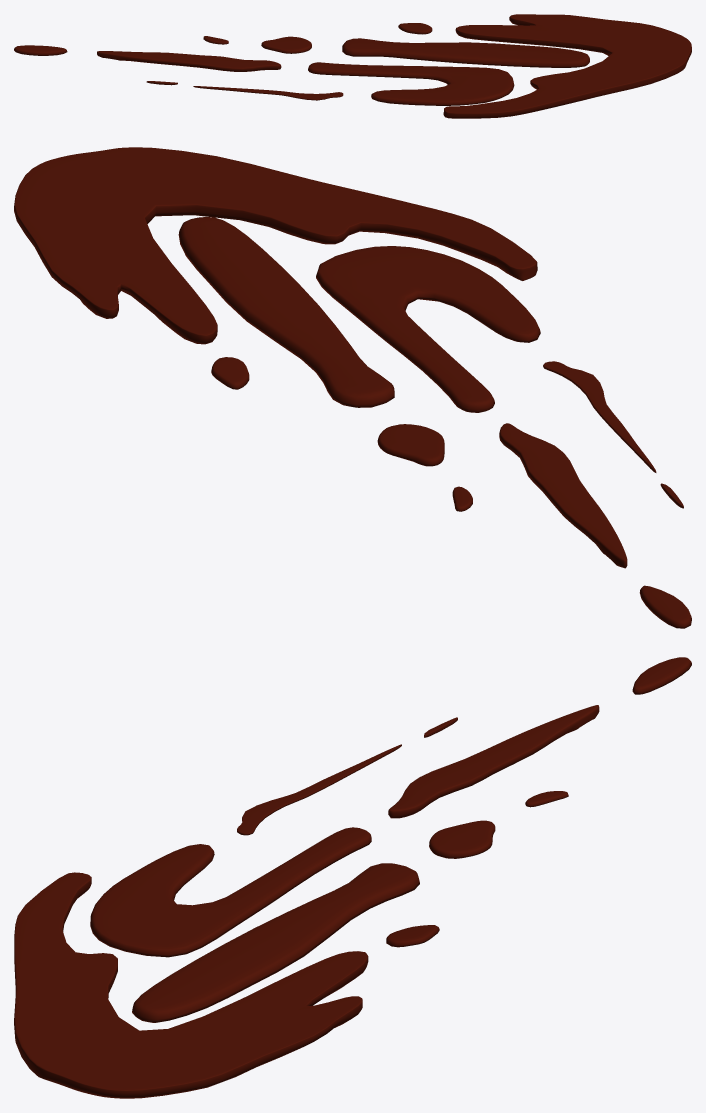
Rendered from soySauce2.fbx.
3 renders of one model, top to bottom at view 1: azimuth 30°, elevation 25°; view 2: azimuth 150°, elevation 25°; view 3: azimuth 270°, elevation 25°, orthographic. The views are drawn at different scales.
Visible parts, largest first — view 1: pPlane14; view 2: pPlane14; view 3: pPlane14.
Part boxes in pixels (<box>): pPlane14: <box>14,14,691,118</box>; pPlane14: <box>14,147,691,628</box>; pPlane14: <box>14,657,691,1098</box>.
Bounding box in the file's own units: 11911 × 168 × 7803.
